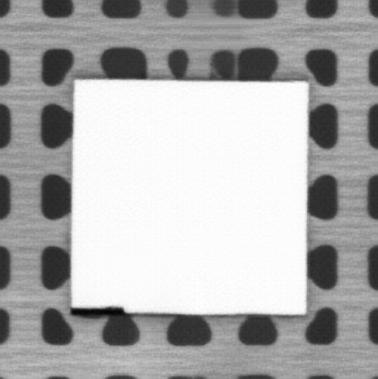DIE_BROKEN: (70, 305, 127, 317)
